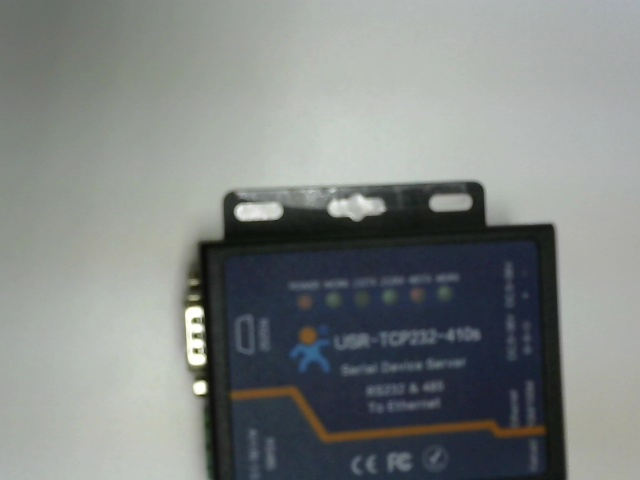modbus bridge: (172, 179, 582, 472)
